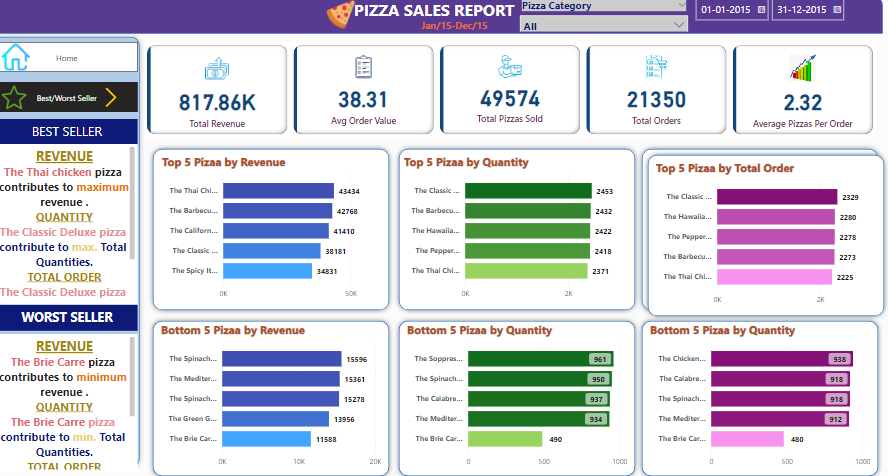

This screenshot's page, from the dashboard's own definition file:
{"tool":"powerbi","page":{"name":"Best/Worst Seller","canvas":[1500,820],"ordinal":1},"visuals":[{"type":"cardVisual","fields":{"Data":["pizza_sales.Total Revenue","pizza_sales.Avg Order Value","pizza_sales.Total Pizzas Sold","pizza_sales.Total Orders","pizza_sales.Average Pizzas Per Order"]},"box":[259,83.6,1221.3,159],"z":0},{"type":"actionButton","box":[0,0,100,40],"z":1000},{"type":"shape","box":[26.2,6.6,1463.9,63.9],"z":2000},{"type":"textbox","box":[557.4,6.6,370.5,63.9],"z":3000},{"type":"textbox","box":[675.4,39.3,200,34.4],"z":4000},{"type":"image","box":[557.4,4.9,59,63.9],"z":5000},{"type":"shape","box":[265.6,254.1,409.8,285.2],"z":6000},{"type":"shape","box":[0,67.2,259,732.8],"z":7000},{"type":"textbox","box":[11.5,211.5,236.1,42.6],"z":8000},{"type":"textbox","box":[11.5,254.1,236.1,267.2],"z":9000},{"type":"textbox","box":[11.5,570.5,236.1,231.1],"z":10000},{"type":"textbox","box":[11.5,521.3,236.1,42.6],"z":11000},{"type":"slicer","fields":{"Values":["pizza_sales.pizza_category"]},"box":[875.4,4.9,300,60.7],"z":12000},{"type":"slicer","fields":{"Values":["pizza_sales.order_date"]},"box":[1165.6,0,300,78.7],"z":13000},{"type":"shape","box":[675.4,254.1,409.8,285.2],"z":14000},{"type":"shape","box":[1080.3,254.1,409.8,285.2],"z":15000},{"type":"shape","box":[675.4,539.3,409.8,275.4],"z":16000},{"type":"shape","box":[265.6,539.3,409.8,275.4],"z":17000},{"type":"shape","box":[1080.3,539.3,409.8,275.4],"z":18000},{"type":"barChart","title":"Top 5 Pizaa by Revenue","fields":{"Category":["pizza_sales.pizza_name"],"Y":["pizza_sales.Total Revenue"]},"box":[283.6,270.5,377,250.8],"z":19000},{"type":"barChart","title":"Bottom  5 Pizaa by Revenue","fields":{"Category":["pizza_sales.pizza_name"],"Y":["pizza_sales.Total Revenue"]},"box":[282,550.8,377,250.8],"z":20000},{"type":"barChart","title":"Top 5 Pizaa by Quantity","fields":{"Category":["pizza_sales.pizza_name"],"Y":["pizza_sales.Total Pizzas Sold"]},"box":[686.9,270.5,377,250.8],"z":21000},{"type":"shape","box":[1090.2,264.1,409.8,285.2],"z":22000},{"type":"barChart","title":"Bottom 5 Pizaa by Quantity","fields":{"Category":["pizza_sales.pizza_name"],"Y":["pizza_sales.Total Pizzas Sold"]},"box":[691.8,550.8,377,250.8],"z":23000},{"type":"barChart","title":"Top 5 Pizaa by Total Order","fields":{"Category":["pizza_sales.pizza_name"],"Y":["pizza_sales.Total Orders"]},"box":[1106.6,280.3,377,250.8],"z":24000},{"type":"barChart","title":"Bottom 5 Pizaa by Quantity","fields":{"Category":["pizza_sales.pizza_name"],"Y":["pizza_sales.Total Orders"]},"box":[1096.7,550.8,377,250.8],"z":25000},{"type":"pageNavigator","box":[11.5,149.2,236.1,50.8],"z":26000},{"type":"pageNavigator","box":[11.5,83.6,236.1,50.8],"z":27000},{"type":"image","box":[182,149.2,42.6,50.8],"z":28000},{"type":"image","box":[0,80.3,88.5,57.4],"z":29000},{"type":"image","box":[13.1,149.2,55.7,50.8],"z":30000}]}

Visuals, with their boxes in screenshot pixels (x1, y1, x2, y2), scaled from the page's 1500x820 canvas onto the 888x476 screenshot:
cardVisual - pizza_sales.Total Revenue x pizza_sales.Avg Order Value: 153,49,876,141
actionButton: 0,0,59,23
shape: 16,4,882,41
textbox: 330,4,549,41
textbox: 400,23,518,43
image: 330,3,365,40
shape: 157,148,400,313
shape: 0,39,153,464
textbox: 7,123,147,148
textbox: 7,148,147,303
textbox: 7,331,147,465
textbox: 7,303,147,327
slicer - pizza_sales.pizza_category: 518,3,696,38
slicer - pizza_sales.order_date: 690,0,868,46
shape: 400,148,642,313
shape: 640,148,882,313
shape: 400,313,642,473
shape: 157,313,400,473
shape: 640,313,882,473
"Top 5 Pizaa by Revenue" barChart: 168,157,391,303
"Bottom  5 Pizaa by Revenue" barChart: 167,320,390,465
"Top 5 Pizaa by Quantity" barChart: 407,157,630,303
shape: 645,153,887,319
"Bottom 5 Pizaa by Quantity" barChart: 410,320,633,465
"Top 5 Pizaa by Total Order" barChart: 655,163,878,308
"Bottom 5 Pizaa by Quantity" barChart: 649,320,872,465
pageNavigator: 7,87,147,116
pageNavigator: 7,49,147,78
image: 108,87,133,116
image: 0,47,52,80
image: 8,87,41,116
